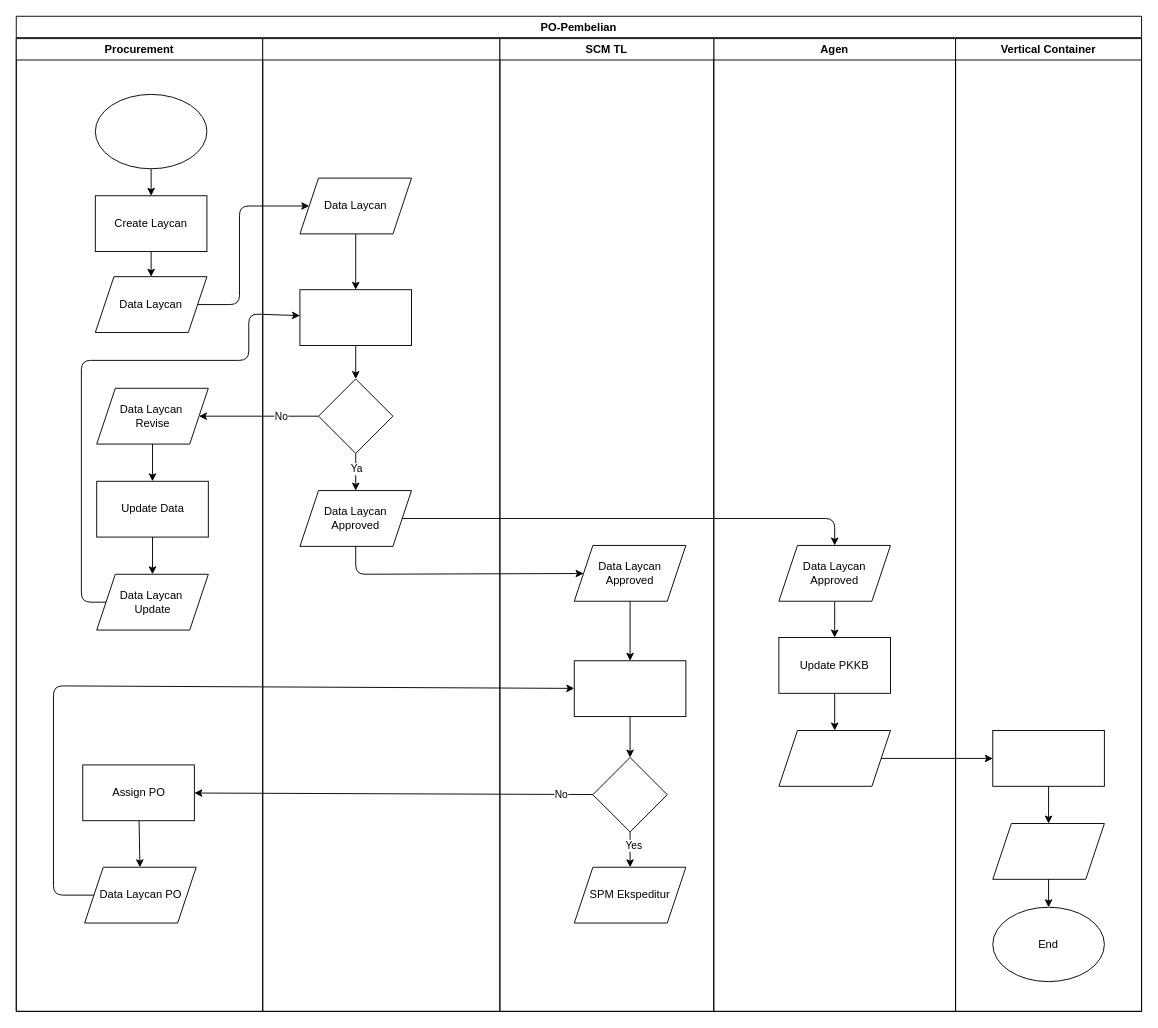
Some shapes in this 1158 by 1028 pixel diagram are drawn without their labels. Each missing label, with the box of its shape:
Approve Laycan: (299, 289, 412, 345)
ATA/NOR: (992, 823, 1104, 879)
BUP: (262, 38, 500, 1011)
Entry Ekspeditur & PO-STO: (573, 660, 686, 717)
is Approve?: (318, 378, 393, 453)
Is there a SO?: (592, 757, 667, 832)
PKKB: (778, 730, 890, 786)
Start: (94, 93, 207, 169)
Update ATA/NOR: (992, 730, 1104, 786)
